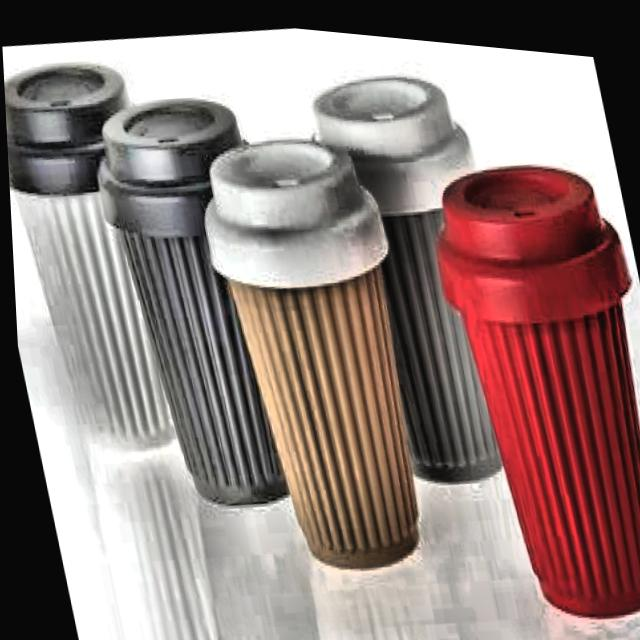Cup: (197, 176, 457, 596), (418, 169, 640, 623), (90, 100, 317, 529), (311, 105, 547, 510), (3, 71, 199, 486)
